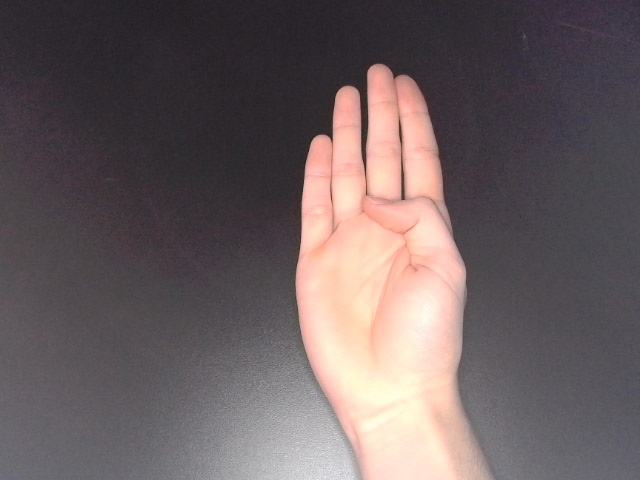b: (289, 60, 471, 435)
